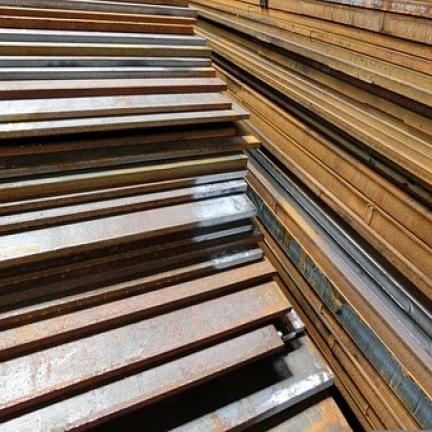karat: (244, 163, 431, 397), (0, 281, 291, 408), (259, 218, 422, 429), (0, 324, 282, 431), (0, 253, 274, 351), (0, 127, 260, 179)
